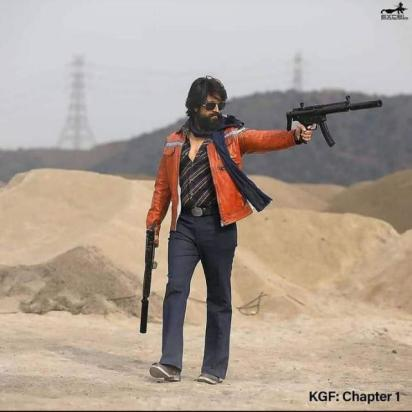Gun: (284, 92, 384, 148), (137, 222, 159, 335)
